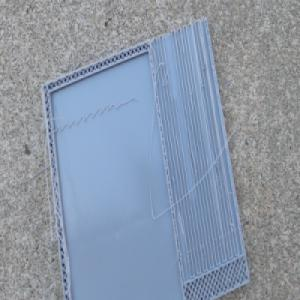PlasticPart: (39, 13, 251, 300)
